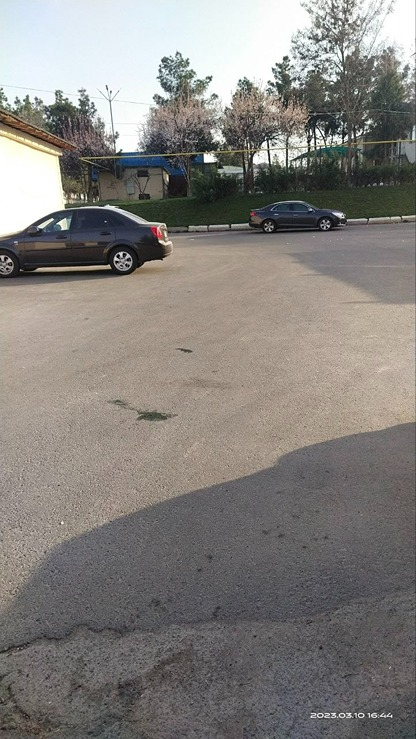car: (0, 182, 187, 272), (235, 198, 371, 241)
tree: (296, 3, 407, 168), (216, 86, 296, 185), (134, 82, 207, 182)
